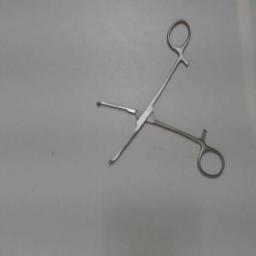Allis Tissue Forceps: (92, 14, 228, 184)
